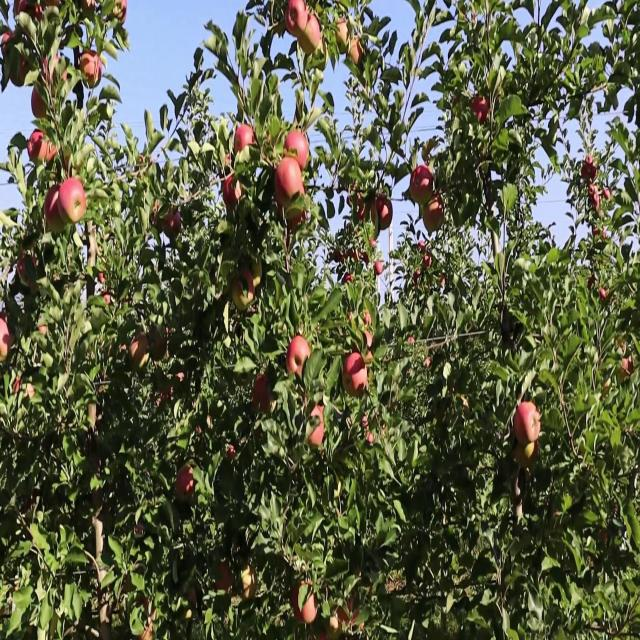apple: (512, 405, 543, 469), (276, 156, 301, 210), (44, 184, 68, 235), (152, 199, 183, 238), (284, 127, 311, 171), (64, 177, 88, 226), (292, 583, 319, 626), (344, 355, 369, 398), (412, 163, 436, 206), (232, 270, 256, 313), (288, 334, 312, 377), (516, 405, 543, 443), (300, 14, 323, 57), (252, 376, 276, 416), (284, 0, 307, 41), (288, 191, 308, 235), (424, 199, 447, 235), (512, 440, 540, 469), (308, 405, 326, 448), (160, 206, 183, 238), (340, 597, 363, 629), (20, 255, 38, 293), (44, 56, 68, 84), (140, 597, 156, 639), (224, 177, 244, 210), (376, 199, 395, 233), (176, 469, 196, 500), (236, 127, 257, 156), (588, 277, 610, 304), (32, 87, 48, 121), (132, 334, 149, 366), (152, 327, 168, 361), (28, 135, 46, 165), (12, 56, 28, 89), (364, 319, 376, 363), (216, 561, 233, 592), (472, 99, 491, 126), (380, 199, 395, 233), (12, 376, 35, 398), (336, 21, 350, 57), (620, 348, 635, 379), (372, 191, 387, 222), (348, 35, 364, 64), (44, 56, 60, 85), (584, 156, 599, 183), (244, 568, 256, 601), (372, 191, 384, 224), (324, 618, 342, 639), (88, 405, 104, 428), (16, 1, 32, 23), (16, 376, 32, 398), (596, 279, 610, 304), (4, 319, 12, 361), (44, 142, 59, 164), (160, 383, 175, 405), (4, 28, 16, 55), (364, 419, 376, 446), (588, 184, 600, 210), (24, 490, 37, 512), (96, 49, 104, 84), (116, 1, 128, 23), (32, 7, 44, 23), (600, 191, 613, 201), (228, 447, 236, 462), (224, 156, 233, 169), (464, 398, 471, 414), (600, 533, 608, 544), (40, 327, 48, 334)
